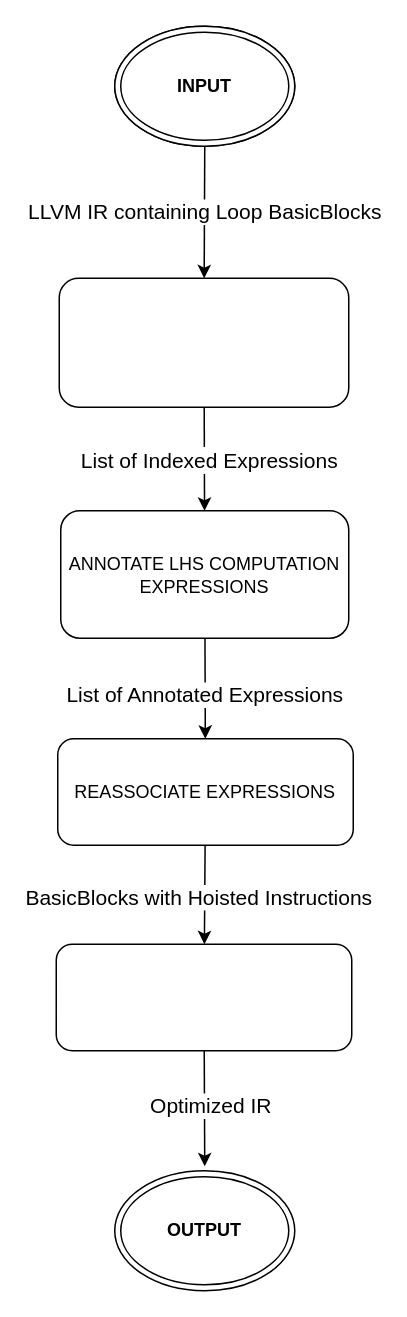
Image size: 407x1317. Some labels were removed from this diagram. The shapes that lost their labels are listed below. From the top down, each one's centre as x and y in pixels, then its label:
At (x=203, y=342): "IDENTIFYING COMPUTATION EXPRESSION".
At (x=203, y=997): "REMOVE DEAD INSTRUCTIONS".
